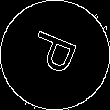P_E: (25, 28, 85, 82)
